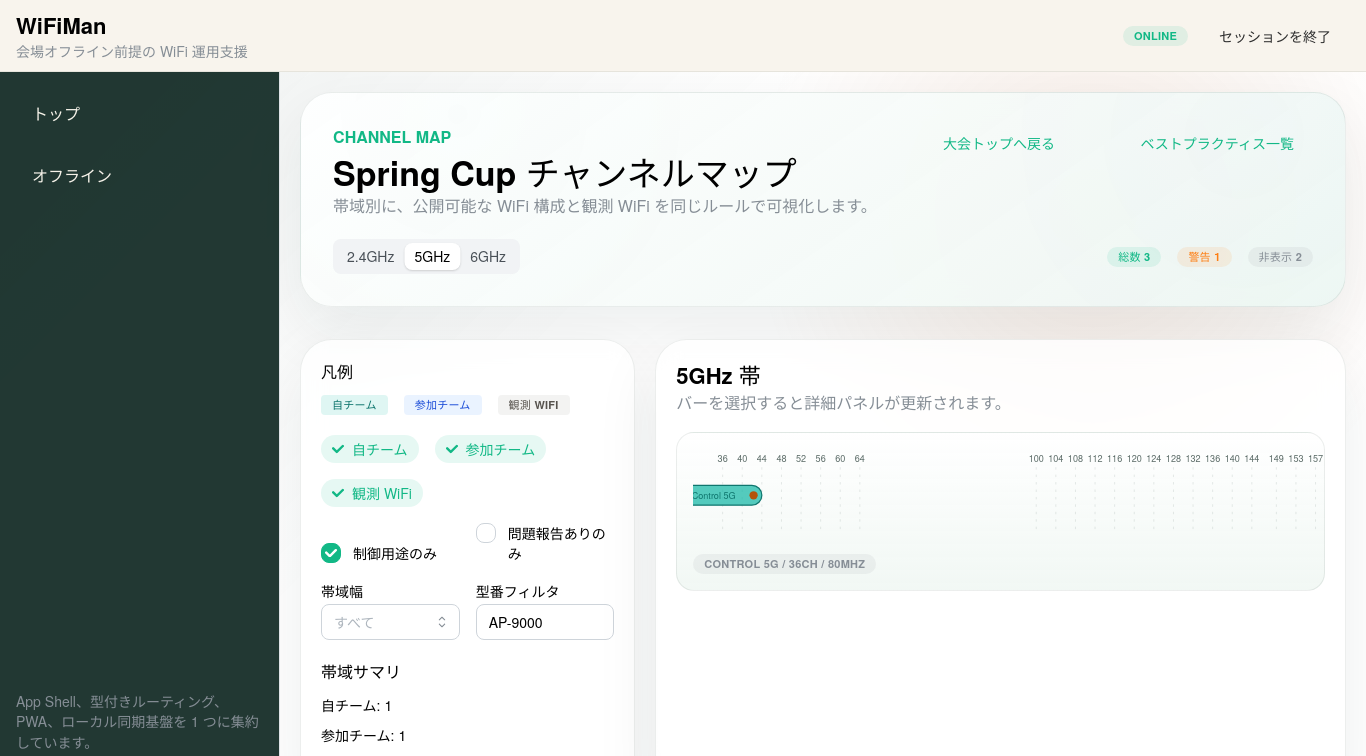
Test: team management routes › チャンネルマップの band/filter state を URL search params と同期して復元する
Expected: the heading "Spring Cup チャンネルマップ" is shown, [333,150,877,194]
Expected: the radio button labelled "5GHz" is checked, [414,246,450,266]
What coordinates should you click on to do the following:
click the radio button labelled "6GHz"
I would click on:
 (488, 256)
Its box is [470,246,506,266].
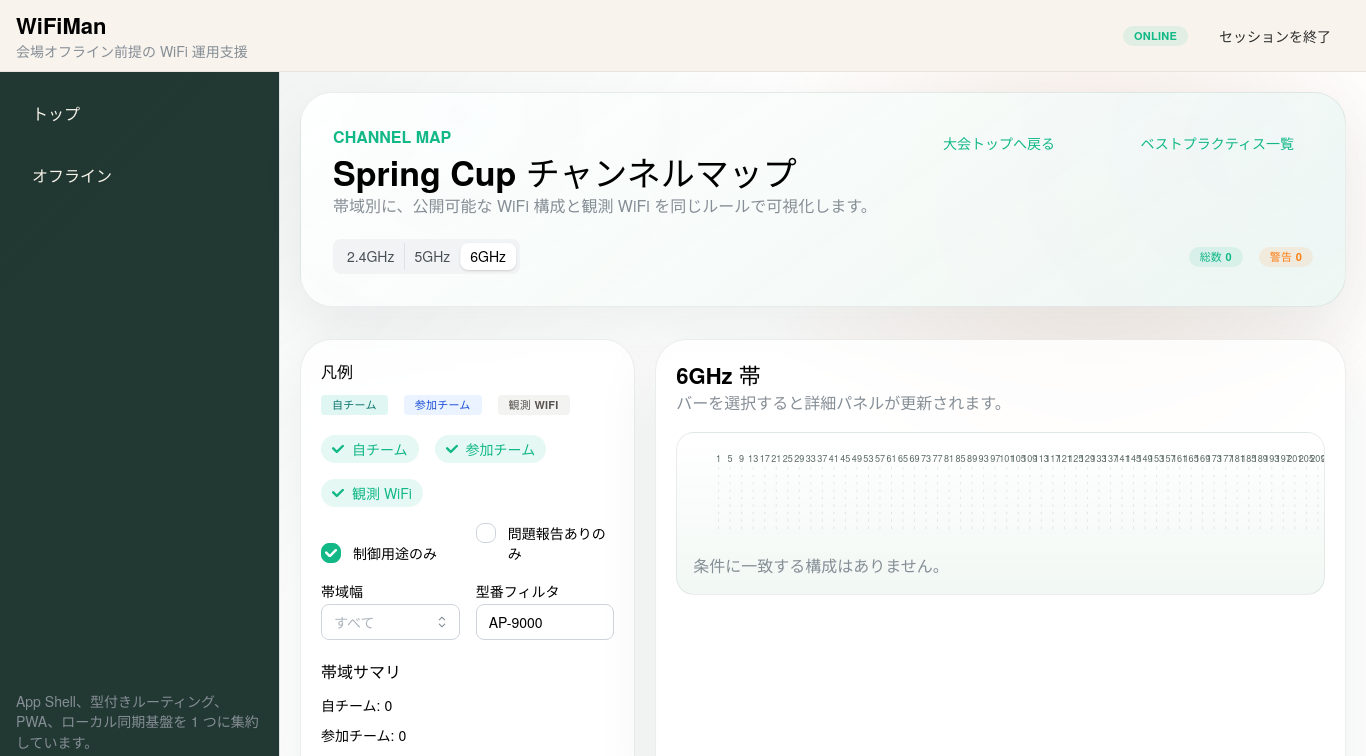
What coordinates should you click on to do the following:
click the checkbox labelled "問題報告ありのみ"
I would click on:
 (486, 533)
Its box is [476,523,496,543].
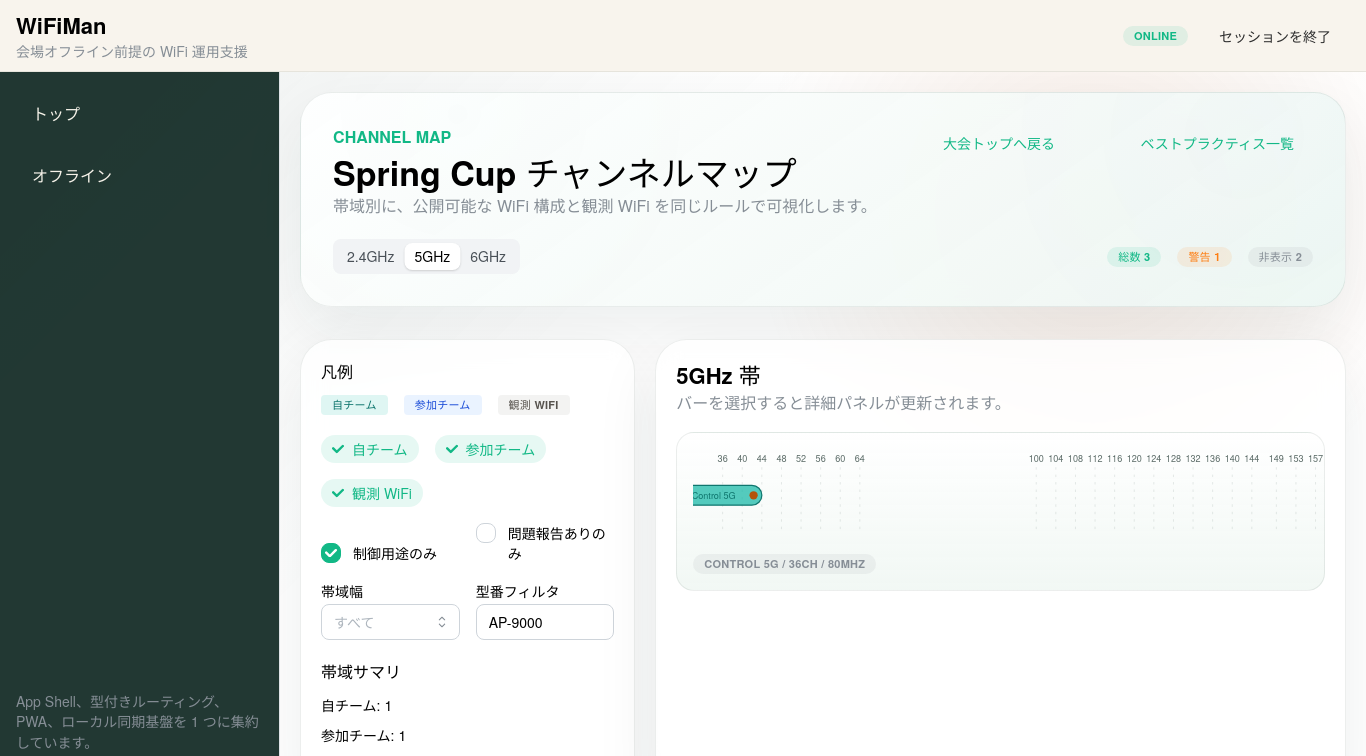
Expected: the text "6GHz" is shown, [470,246,506,266]
Expected: the radio button labelled "5GHz" is checked, [414,246,450,266]
